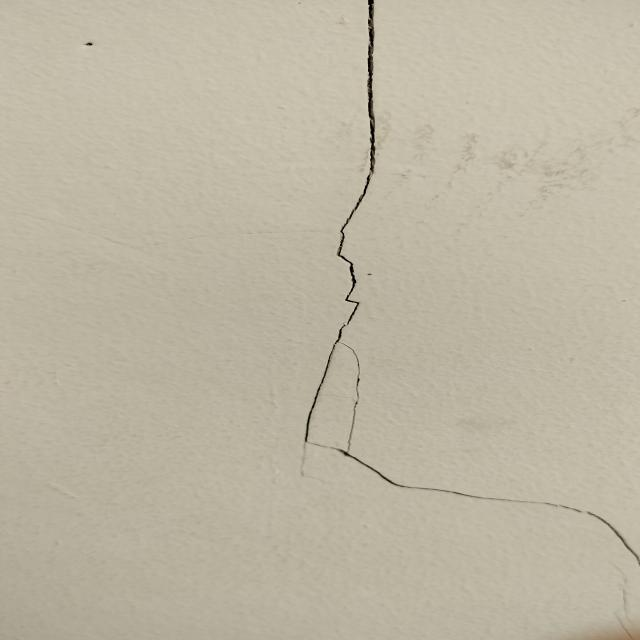Crack: (292, 4, 640, 565)
